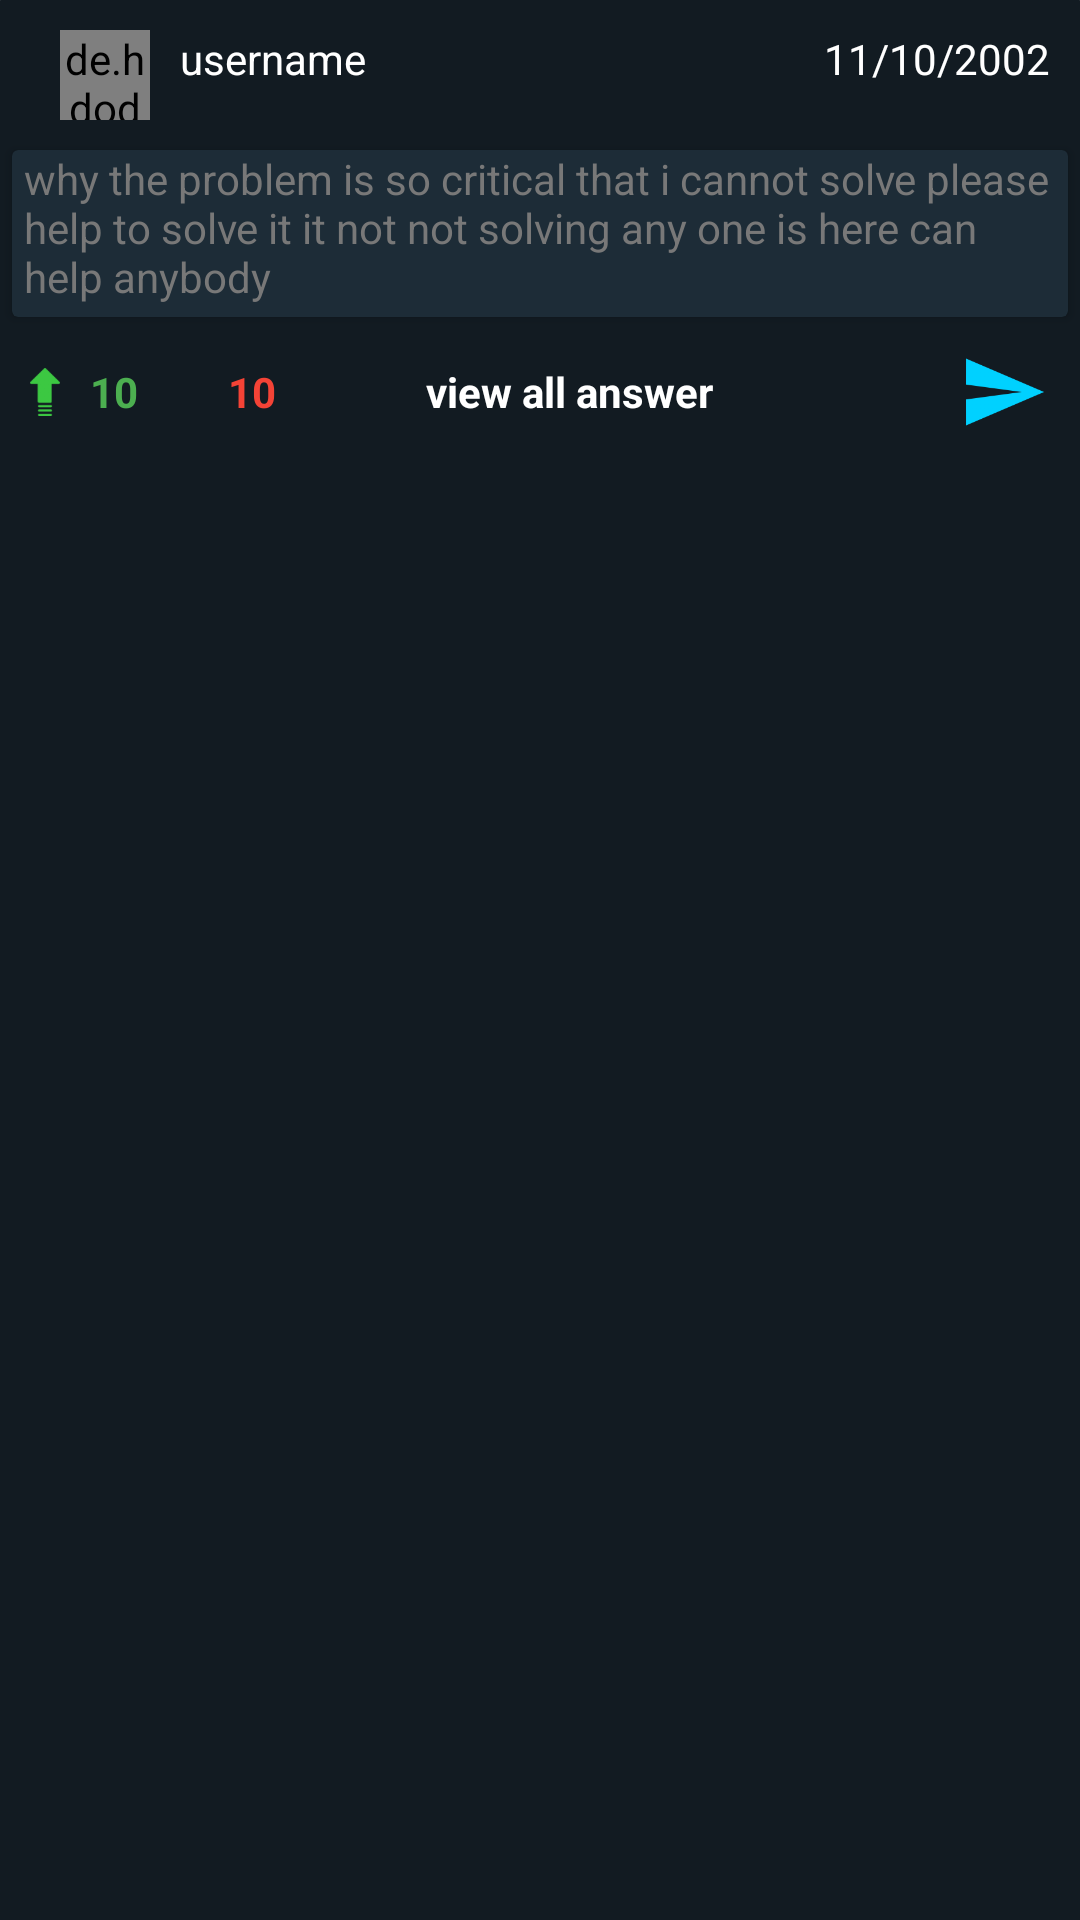

Icons on this 1080*1920 Android screen, each with the point to tap as (x=x, y=y):
answer: (x=1005, y=392)
upvote: (x=45, y=392)
